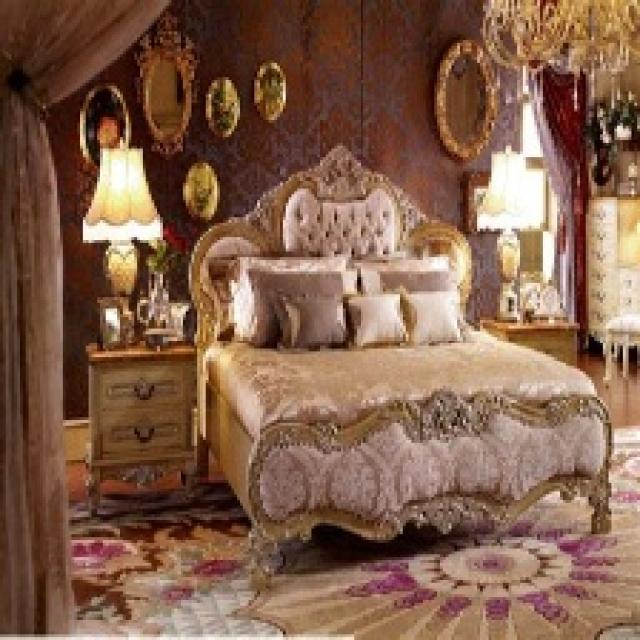Bed: (186, 143, 611, 591)
